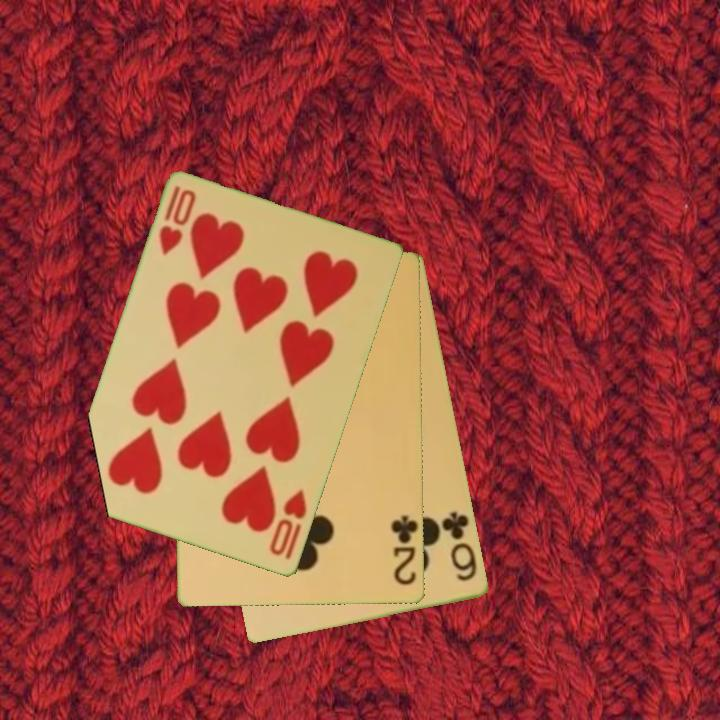10h: (155, 182, 199, 259), (266, 486, 310, 559)
2c: (387, 512, 421, 588)
6c: (438, 508, 480, 585)
